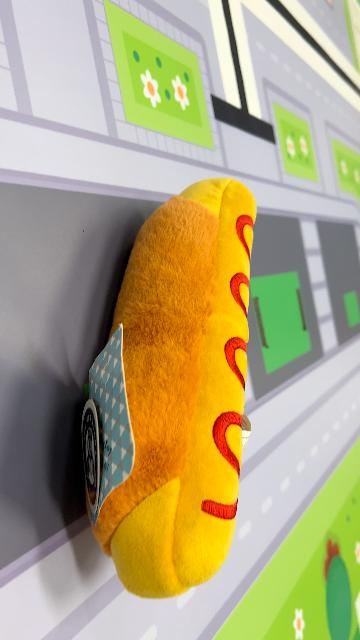hotdog: (80, 176, 258, 600)
